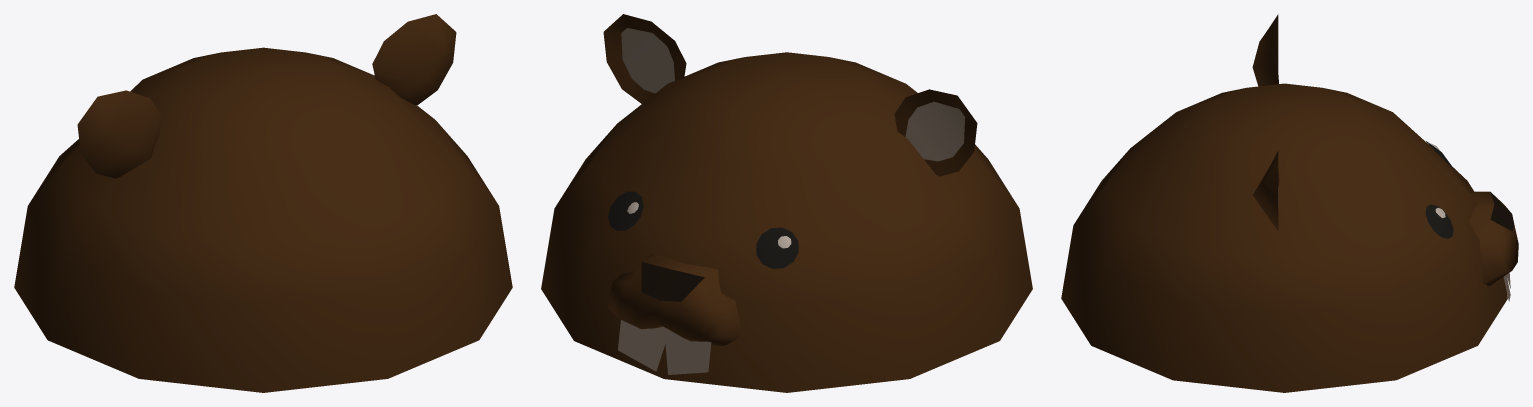
Rendered from hat_groundhog.glb.
The picture shows the model from 3 angles, left to right: view 1: azimuth 30°, elevation 25°; view 2: azimuth 150°, elevation 25°; view 3: azimuth 270°, elevation 25°; orthographic projection. The views are drawn at different scales.
Visible parts, largest first — view 1: hat_groundhog; view 2: hat_groundhog; view 3: hat_groundhog.
Part boxes in pixels (x1,y1,x2,y2): hat_groundhog: [14, 14, 512, 392]; hat_groundhog: [541, 14, 1032, 392]; hat_groundhog: [1061, 14, 1518, 392].
Bounding box in the file's own units: 0.3848 × 0.2001 × 0.3941.
